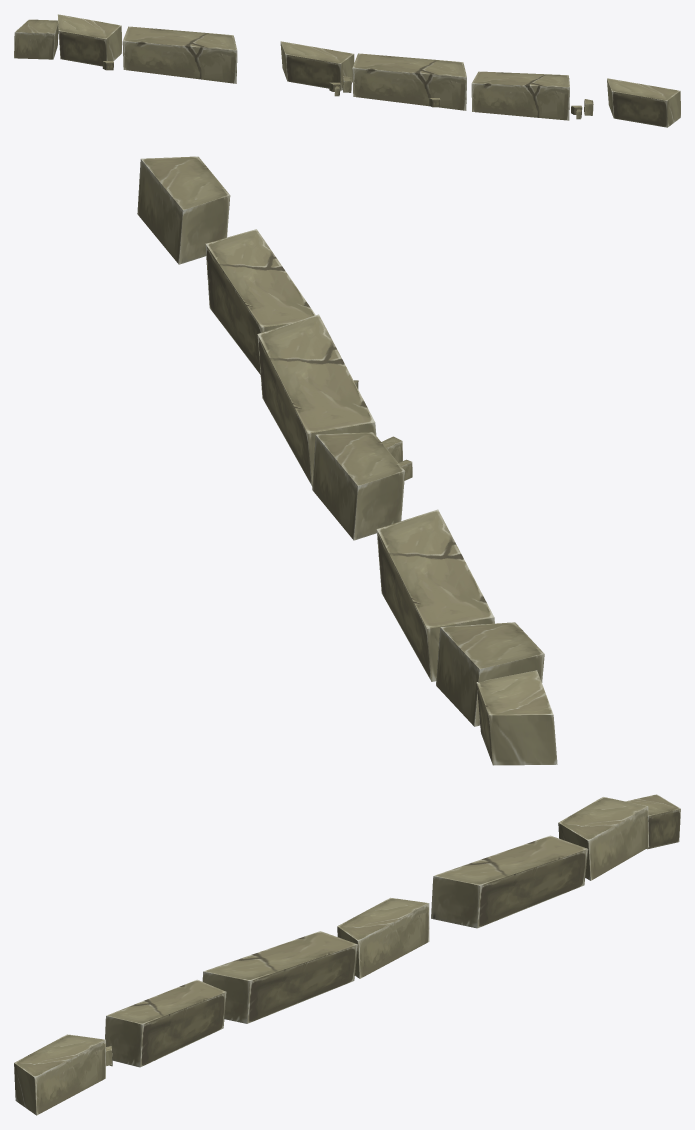
File: wallrocks_diagonalbase1.fbx
The picture shows the model from 3 angles, top to bottom: view 1: azimuth 30°, elevation 25°; view 2: azimuth 150°, elevation 25°; view 3: azimuth 270°, elevation 25°; orthographic projection. The views are drawn at different scales.
Visible parts, largest first — view 1: polySurface126; view 2: polySurface126; view 3: polySurface126.
Part boxes in pixels (x1,y1,x2,y2): polySurface126: [14, 14, 680, 127]; polySurface126: [137, 156, 557, 765]; polySurface126: [14, 794, 680, 1115].
Bounding box in the file's own units: 2.12 × 0.1654 × 2.06.
